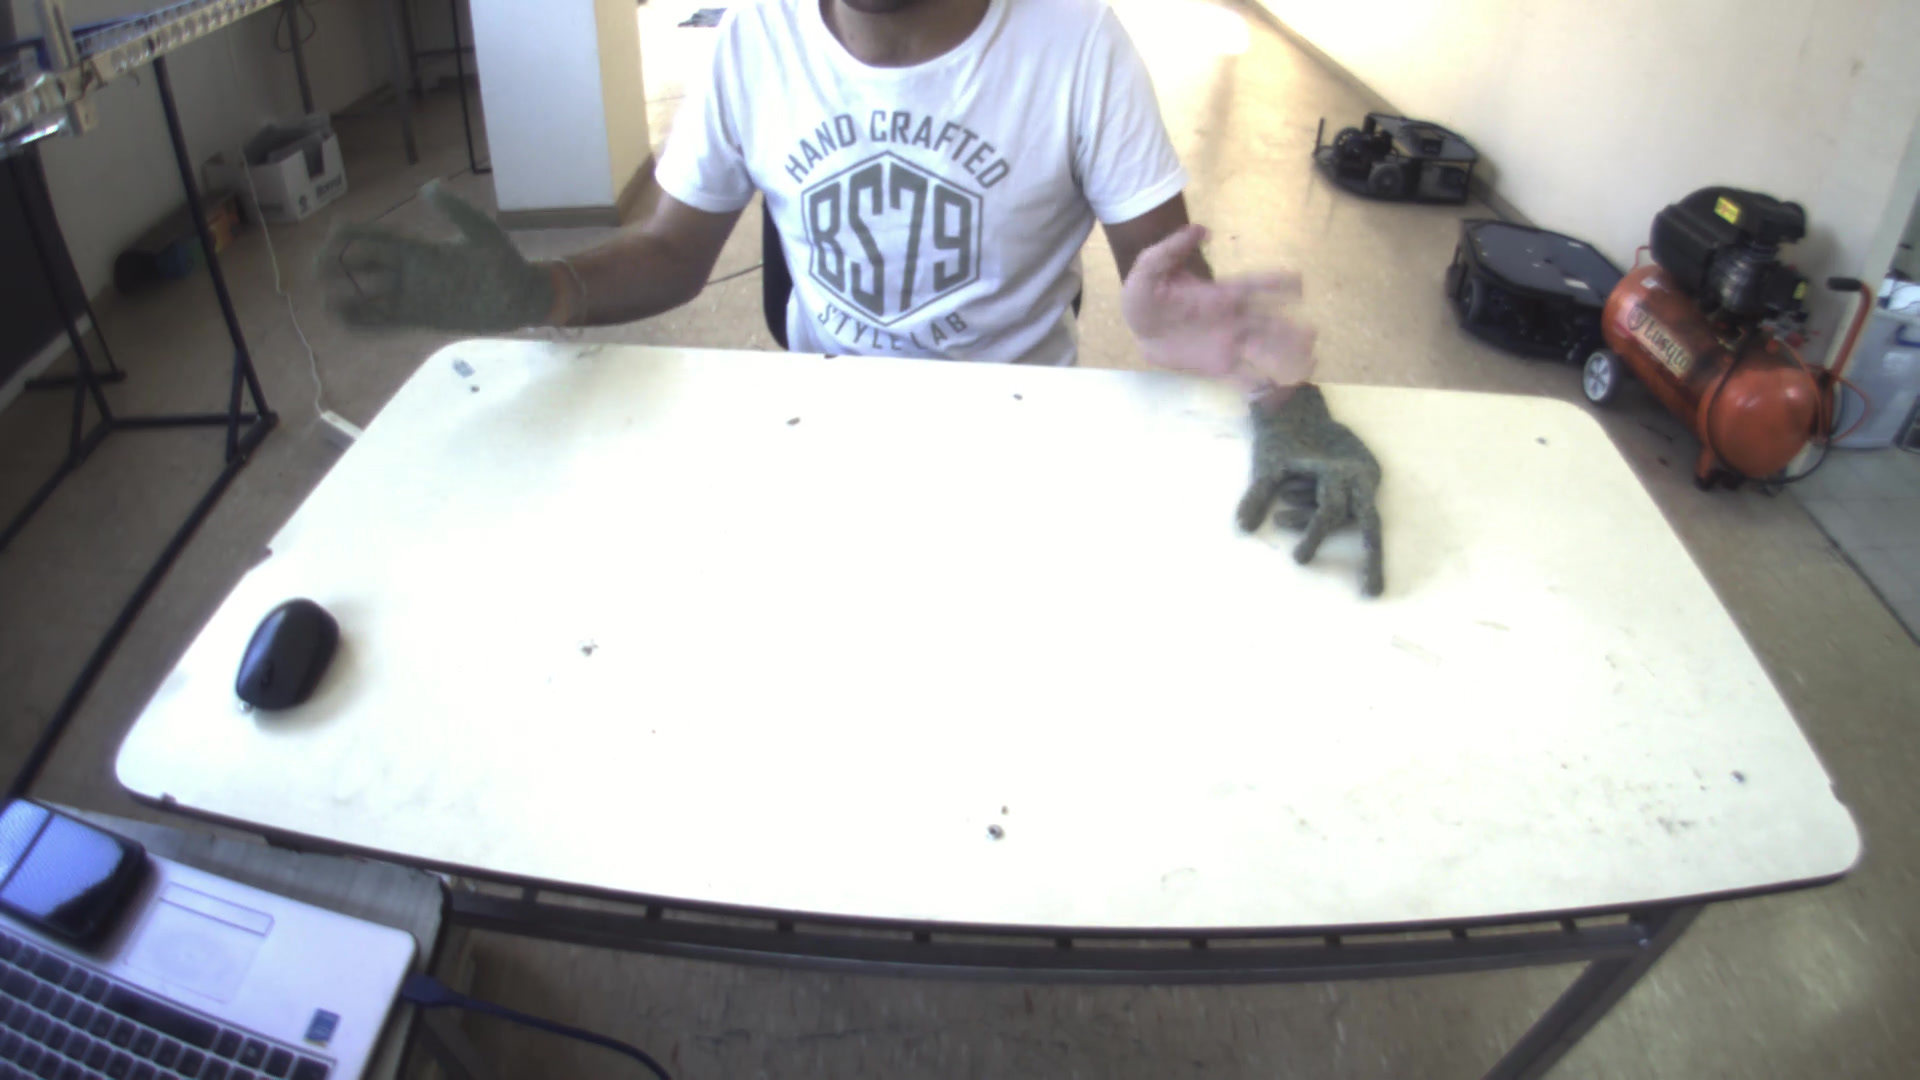hand: (306, 171, 564, 355), (1116, 196, 1321, 404)
